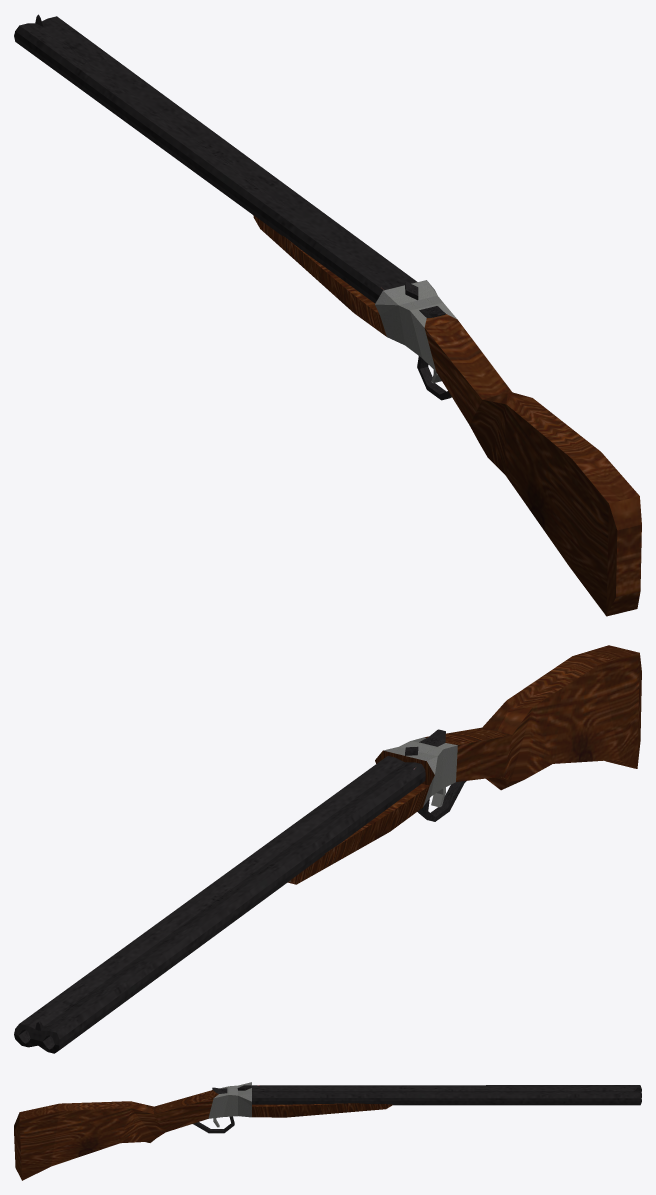
File: Double_Barrel_Shotgun.fbx
3 renders of one model, top to bottom at view 1: azimuth 30°, elevation 25°; view 2: azimuth 150°, elevation 25°; view 3: azimuth 270°, elevation 25°, orthographic. The views are drawn at different scales.
Visible parts, largest first — view 1: Base, Barrel; view 2: Base, Barrel; view 3: Base, Barrel.
Boxes of the visible parts, x1,y1,x2,y2 form: Base: (253,215,641,616); Barrel: (14,14,417,303); Base: (288,645,641,884); Barrel: (14,756,425,1053); Base: (14,1082,392,1180); Barrel: (252,1085,641,1105).
Size of the model in its own units: 28.45 by 78.36 by 487.
Materials: 3 (3 with a texture image).
